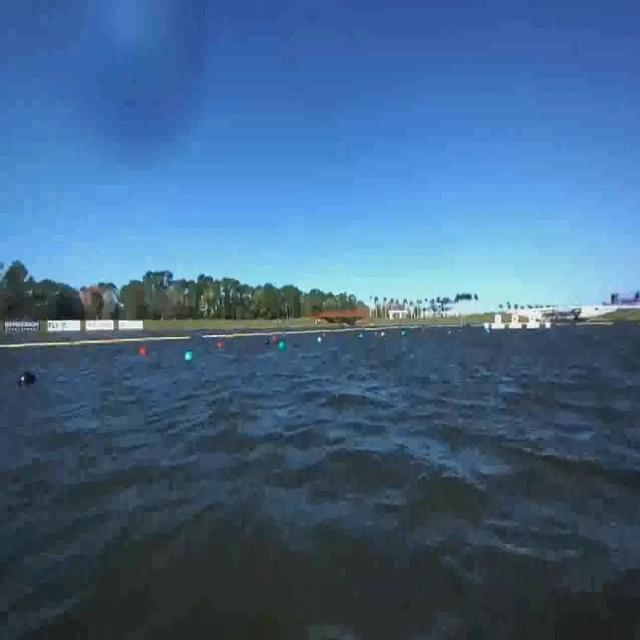black-buoy: (22, 371, 38, 387)
green-buoy: (278, 341, 286, 353), (185, 350, 192, 363)
red-buoy: (140, 346, 148, 358)
